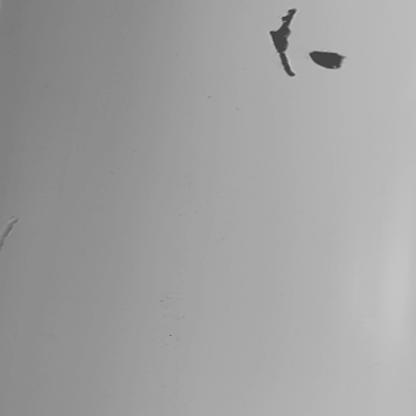kongdong: (266, 7, 303, 79), (309, 51, 346, 71)
sunshang: (1, 219, 22, 246)
